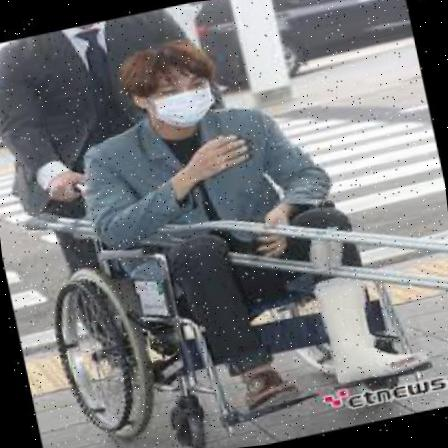wheel: (0, 0, 440, 447)
